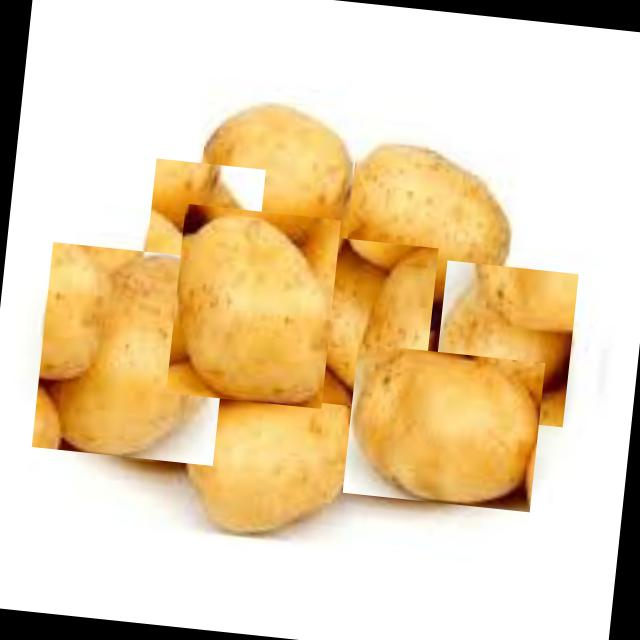Potato: (31, 242, 234, 466), (166, 204, 340, 408), (178, 358, 362, 546), (342, 343, 545, 512), (328, 136, 521, 312), (256, 231, 438, 413), (194, 95, 360, 252), (431, 260, 578, 427), (142, 158, 266, 301)
